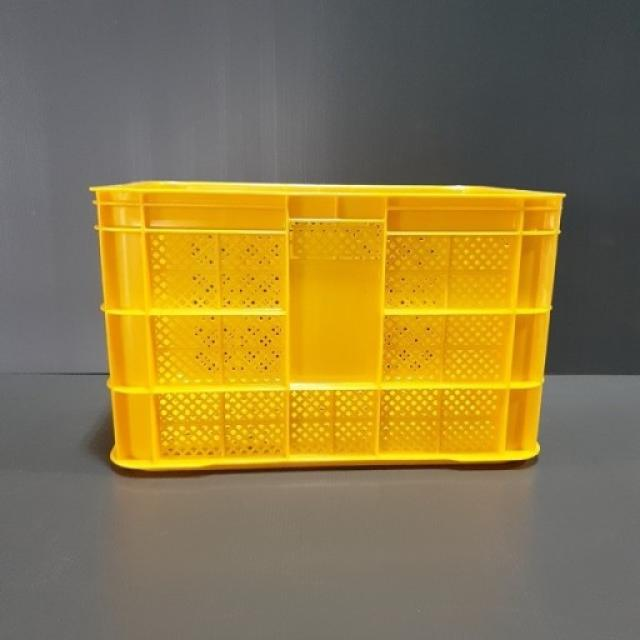basket: (90, 180, 566, 476)
